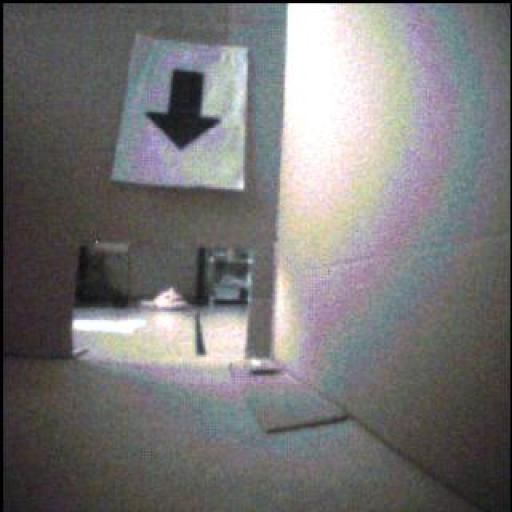arrow: (148, 71, 220, 150)
